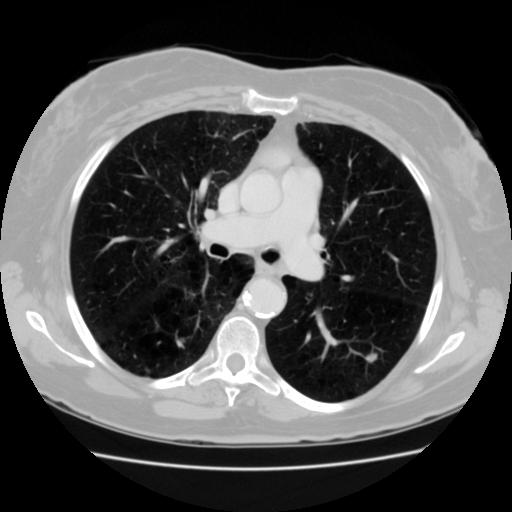nodule: (364, 349, 379, 364)
